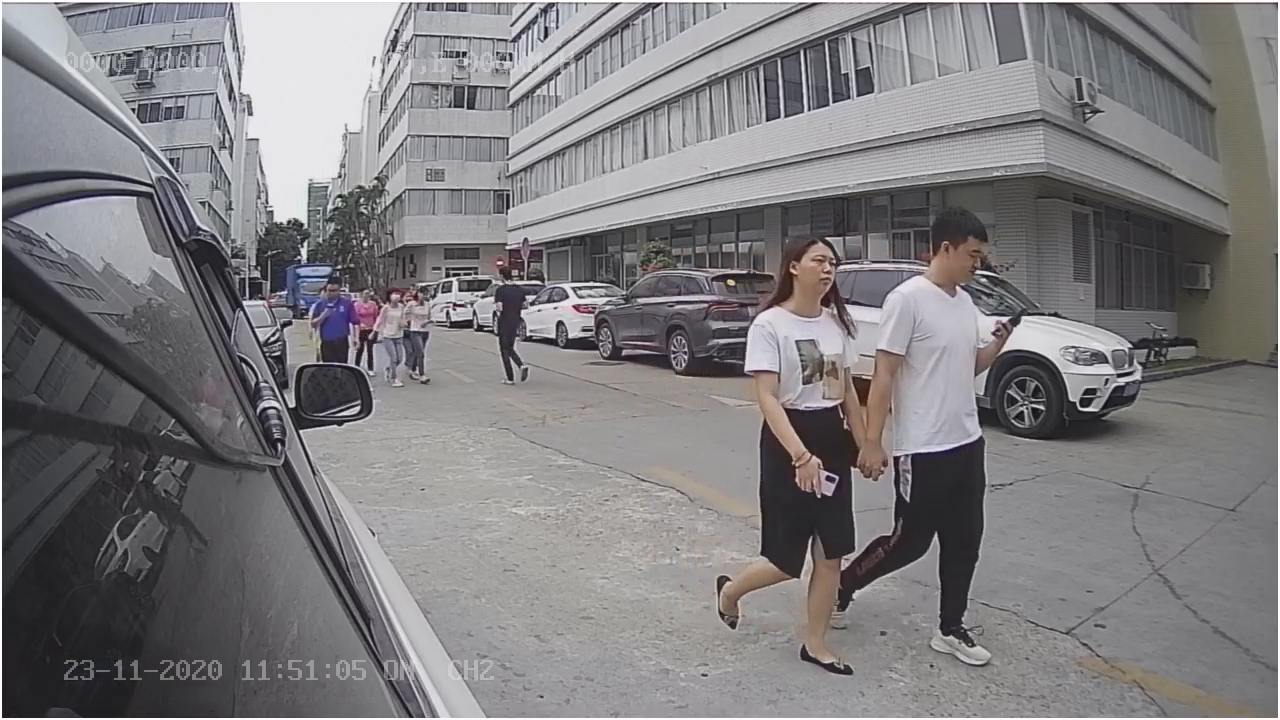person: (699, 231, 876, 675), (486, 265, 542, 385)
